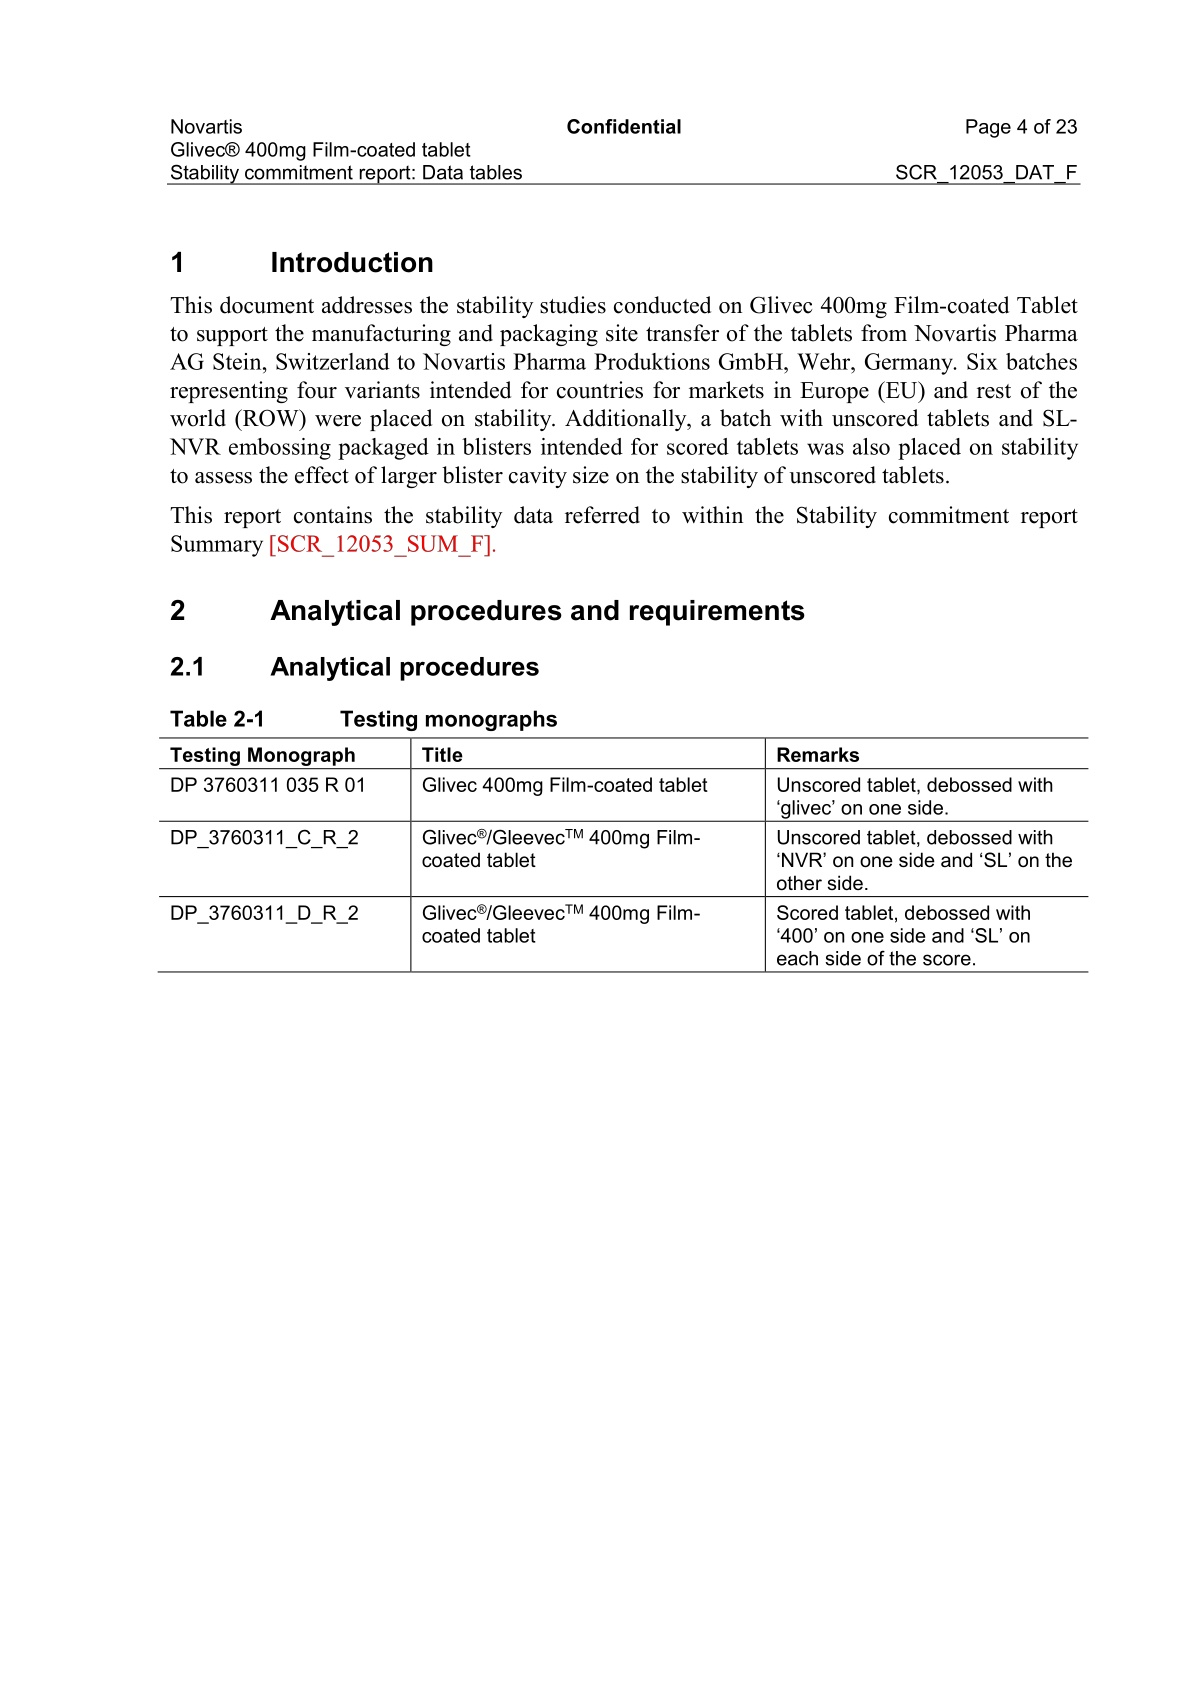partial_lined: (159, 736, 1089, 974)
